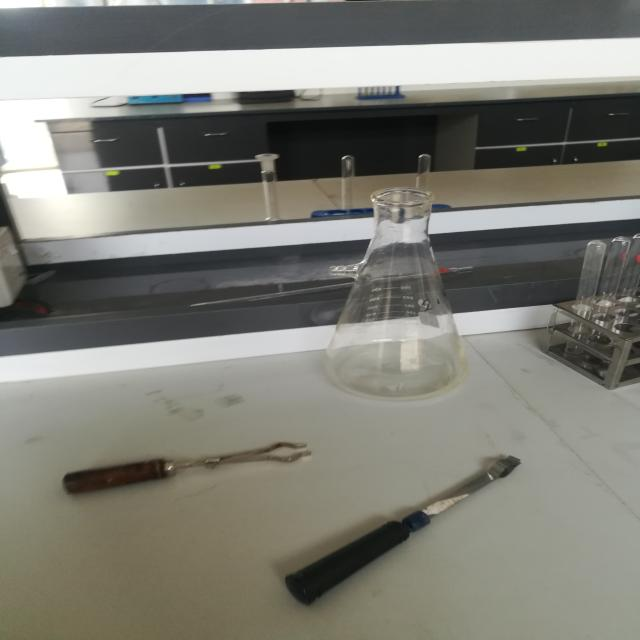Conical_Flask: (310, 165, 507, 412)
TestTube_Holder: (261, 441, 568, 627), (19, 422, 357, 512)
